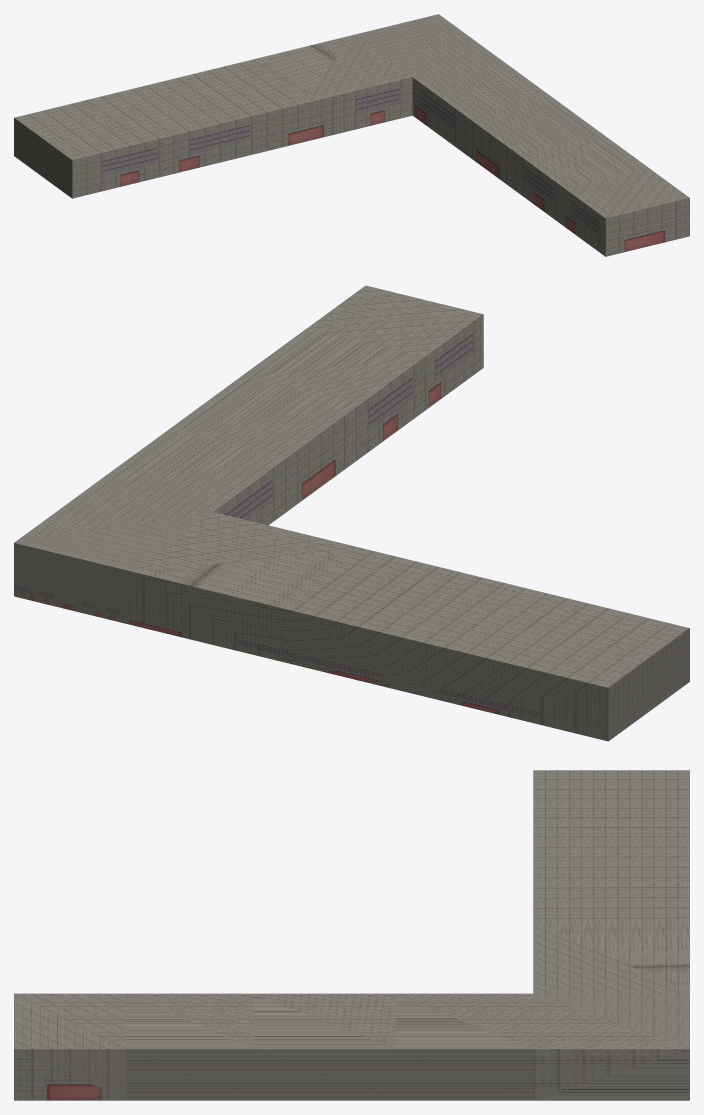
Rendered from urb_building_big.obj.
3 views of the same model, one above another, from view 1: azimuth 30°, elevation 25°; view 2: azimuth 150°, elevation 25°; view 3: azimuth 270°, elevation 25° (orthographic). The views are drawn at different scales.
Parts seen in each view (by area): view 1: pCube1; view 2: pCube1; view 3: pCube1.
Boxes of the visible parts, x1,y1,x2,y2 form: pCube1: (14, 14, 689, 256); pCube1: (14, 285, 689, 741); pCube1: (14, 770, 689, 1100).
Size of the model in its own units: 1.29 by 0.1115 by 1.33.
